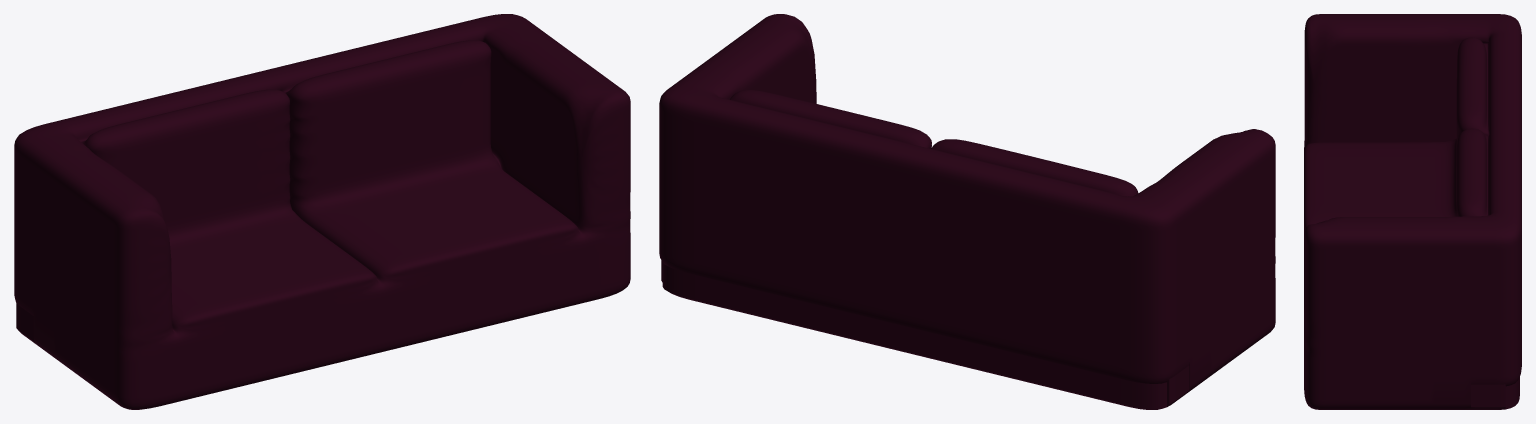
File: Couch_Fusia.fbx
The picture shows the model from 3 angles, left to right: view 1: azimuth 30°, elevation 25°; view 2: azimuth 150°, elevation 25°; view 3: azimuth 270°, elevation 25°; orthographic projection. The views are drawn at different scales.
Parts seen in each view (by area): view 1: Box014; view 2: Box014; view 3: Box014.
Boxes of the visible parts, box(x1,y1,x2,y2) form: Box014: box(14, 14, 630, 409); Box014: box(659, 14, 1275, 409); Box014: box(1304, 14, 1521, 409).
Size of the model in its own units: 82.17 by 31.07 by 33.62.
